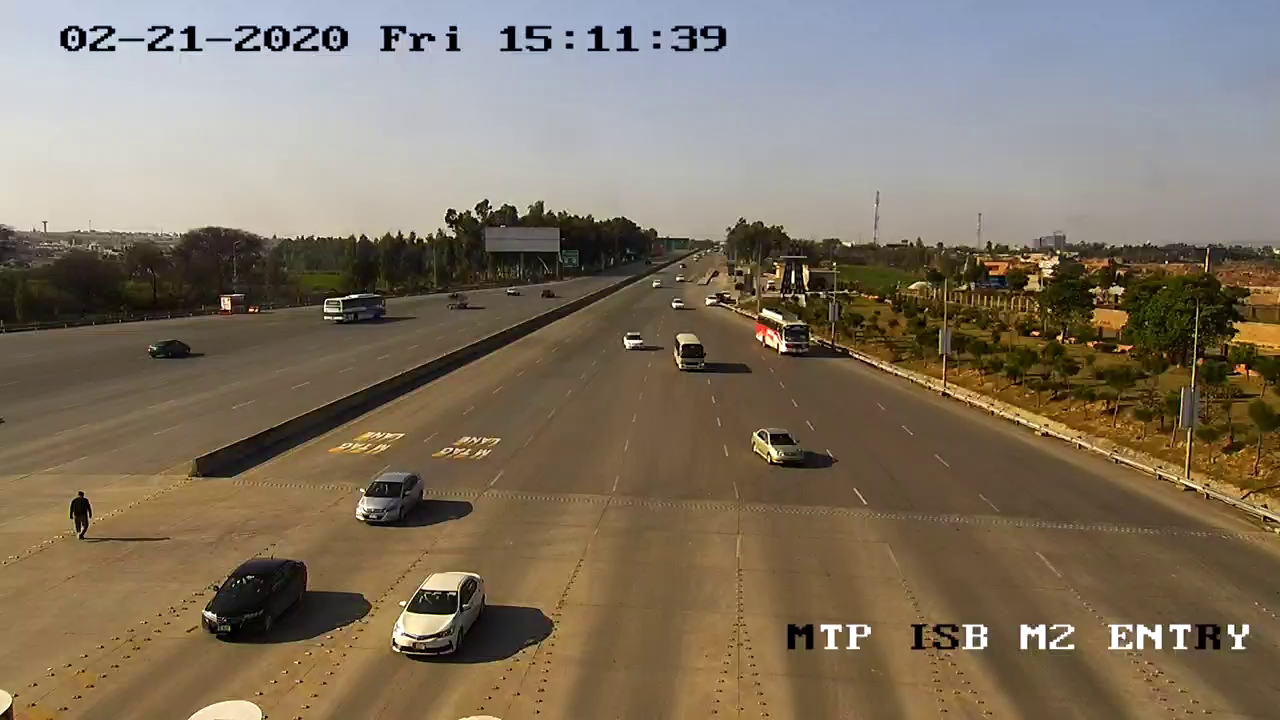f1: (195, 546, 317, 650), (385, 564, 490, 664), (352, 462, 429, 538), (744, 423, 814, 474)
f3: (669, 329, 711, 374)
f4: (753, 303, 815, 361)
